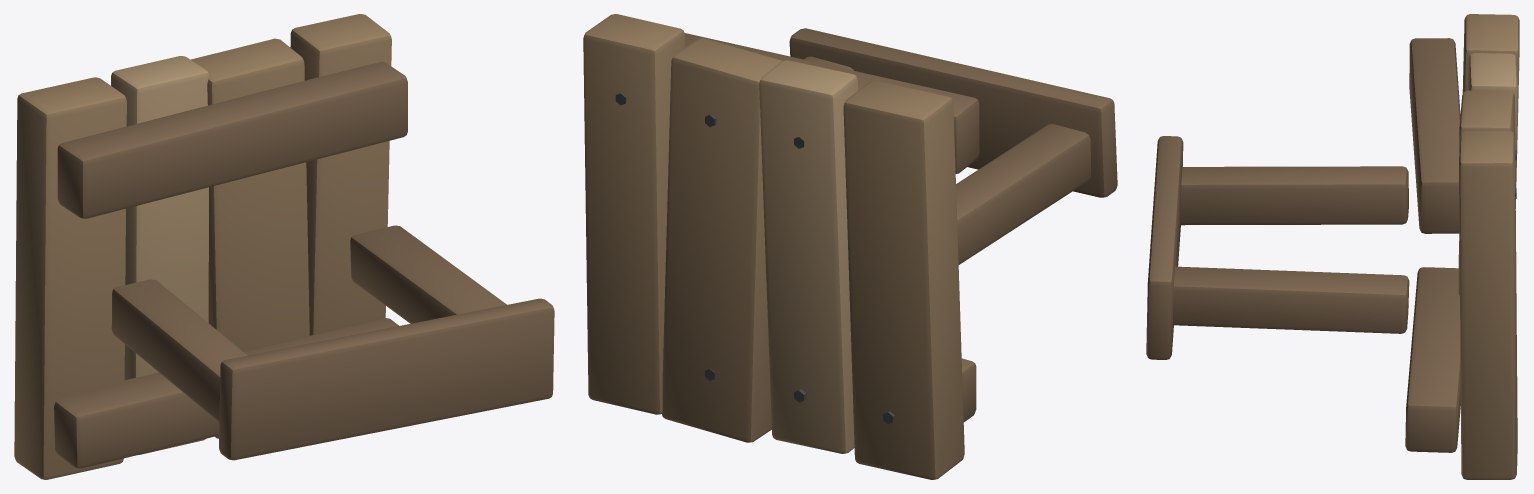
The model's file is wood_plate.glb.
3 views of the same model, side by side, from view 1: azimuth 30°, elevation 25°; view 2: azimuth 150°, elevation 25°; view 3: azimuth 270°, elevation 25° (orthographic). The views are drawn at different scales.
Visible parts, largest first — view 1: Part; view 2: Part; view 3: Part.
Boxes of the visible parts, x1,y1,x2,y2 form: Part: (14, 14, 554, 479); Part: (583, 14, 1117, 479); Part: (1146, 14, 1519, 479).
Bounding box in the file's own units: 0.4967 × 0.5 × 0.5137.
